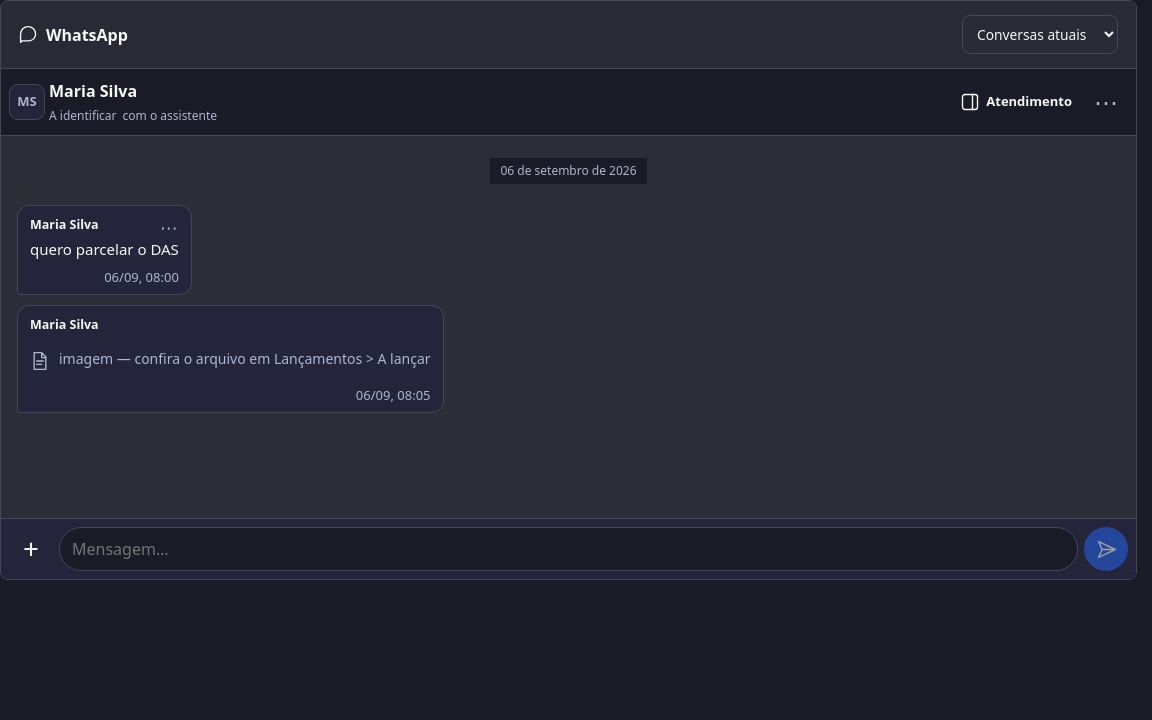
Test case: a tira chega ao DOM pelo chat da empresa › envios ficam nas ações rápidas e notas são criadas pela mensagem
Click the button named "Ações da mensagem e arquivos": (31, 549) [9,527,53,571]
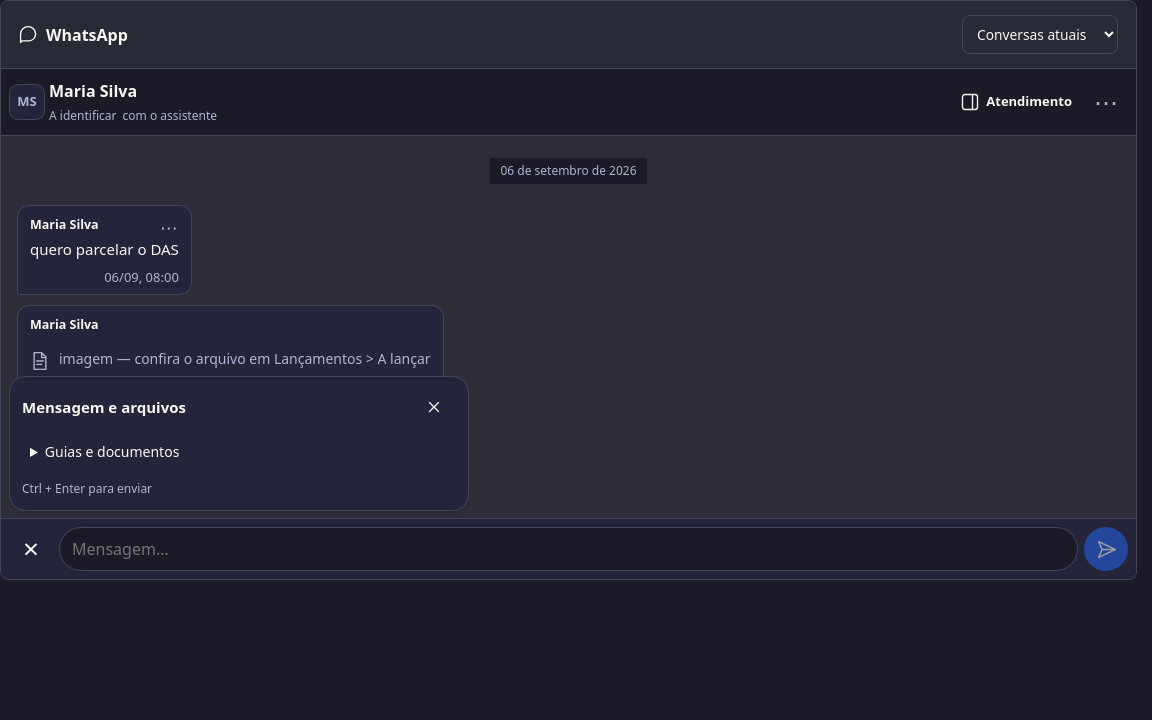
Click the heading "Guias e documentos": (112, 452) [45,442,179,461]
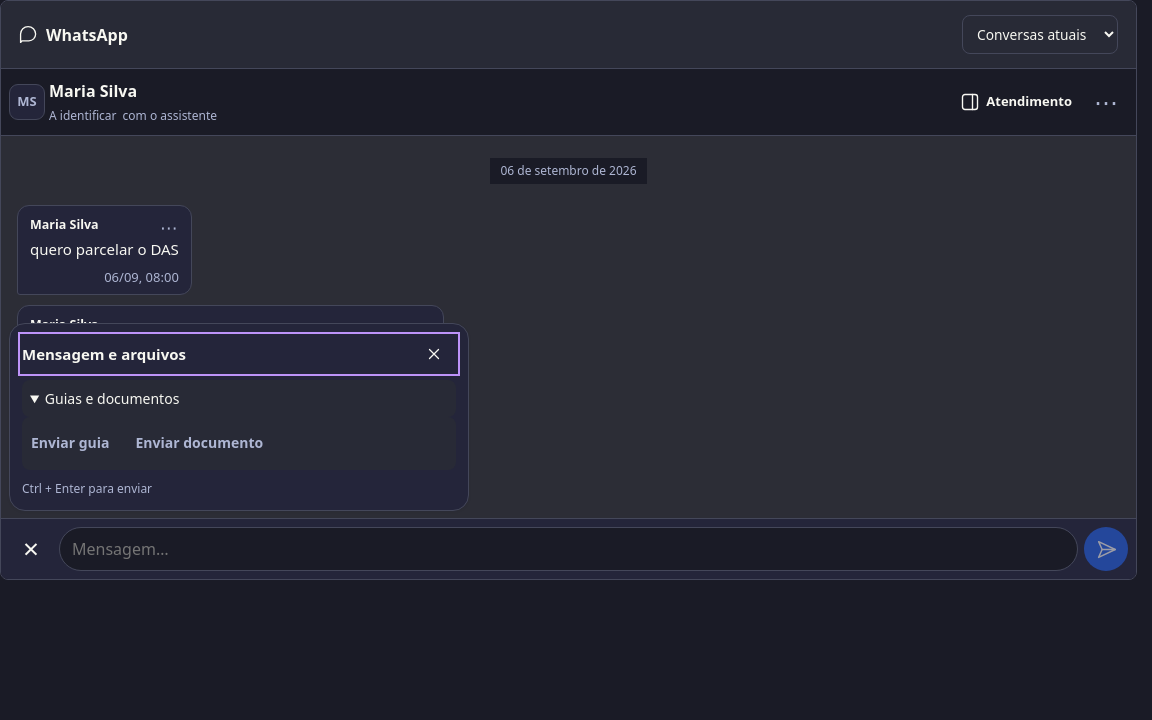
Expected: the button named "Ações da mensagem" is enabled, [147,206,191,250]
Expected: the button with test id "acao-ENVIAR_GUIA" is enabled, [22,425,118,462]
Expected: the button with test id "acao-ENVIAR_DOCUMENTO" is enabled, [126,425,272,462]
